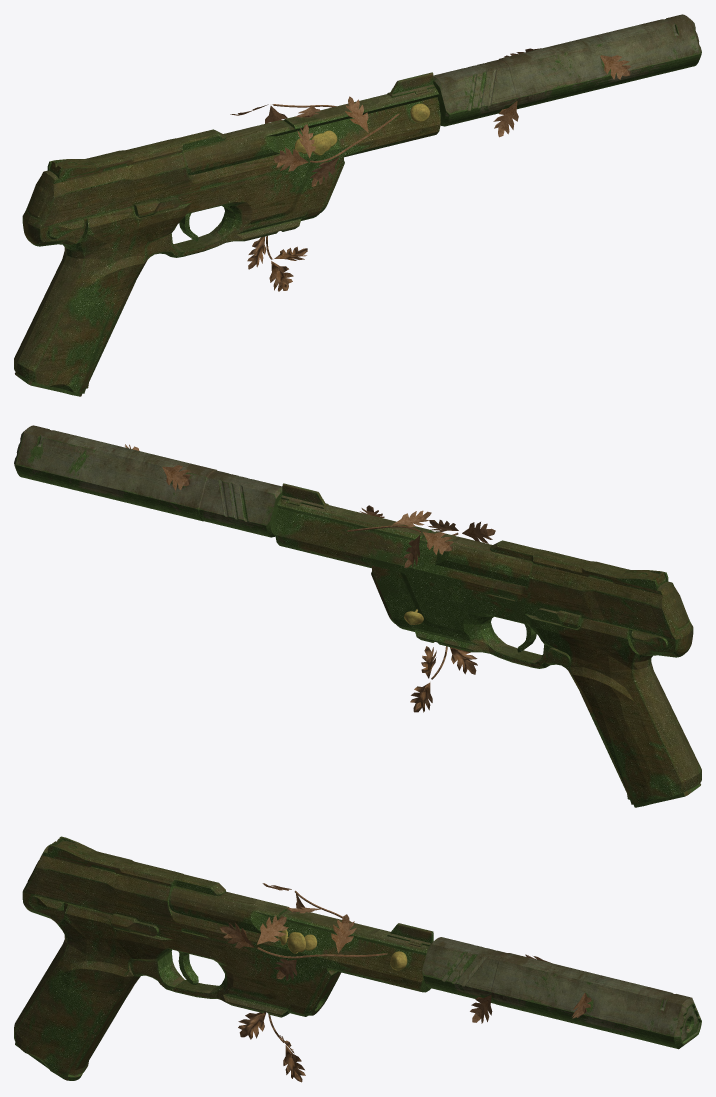
Rendered from pistol.glb.
The picture shows the model from 3 angles, top to bottom: view 1: azimuth 30°, elevation 25°; view 2: azimuth 150°, elevation 25°; view 3: azimuth 330°, elevation 25°; orthographic projection.
Visible parts, largest first — view 1: corps, silencieux, lierre, lierre1, lierre4; view 2: corps, silencieux, lierre4, lierre1, lierre; view 3: corps, silencieux, lierre, lierre1, lierre4, lierre5.
Part boxes in pixels (left/top/right/bottom): corps: left=14, top=72, right=440, bottom=393; silencieux: left=433, top=14, right=701, bottom=126; lierre: left=274, top=96, right=399, bottom=186; lierre1: left=247, top=235, right=307, bottom=291; lierre4: left=230, top=104, right=336, bottom=123; corps: left=275, top=483, right=701, bottom=804; silencieux: left=14, top=425, right=282, bottom=537; lierre4: left=346, top=510, right=453, bottom=567; lierre1: left=410, top=646, right=477, bottom=712; lierre: left=360, top=505, right=495, bottom=543; corps: left=14, top=836, right=433, bottom=1078; silencieux: left=422, top=937, right=701, bottom=1049; lierre: left=220, top=914, right=387, bottom=980; lierre1: left=238, top=1012, right=305, bottom=1082; lierre4: left=262, top=883, right=351, bottom=922; lierre5: left=470, top=995, right=492, bottom=1023.
Size of the model in its own units: 0.8728 by 0.2892 by 0.1054.
4 materials, 4 textured.
